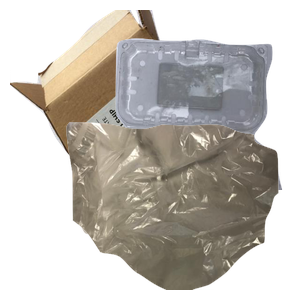cardboard: (10, 10, 227, 190)
glass: (73, 153, 284, 300)
plastic: (80, 36, 300, 216)
trash: (64, 120, 300, 300)
